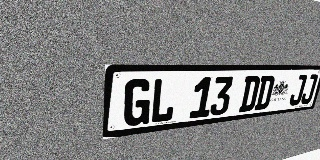1: (189, 77, 215, 119)
3: (209, 76, 234, 116)
D: (238, 76, 261, 112), (254, 75, 276, 110)
G: (123, 79, 153, 127)
J: (288, 74, 308, 106), (300, 74, 319, 105)
L: (149, 78, 178, 124)
